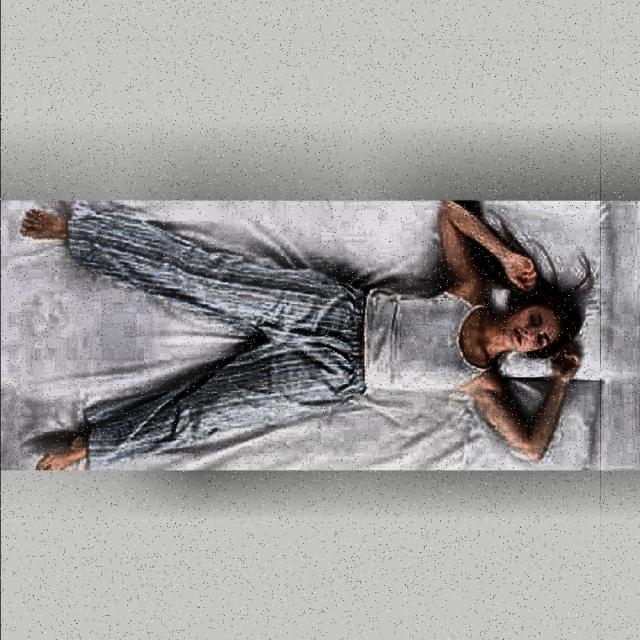Supine: (20, 201, 592, 469)
